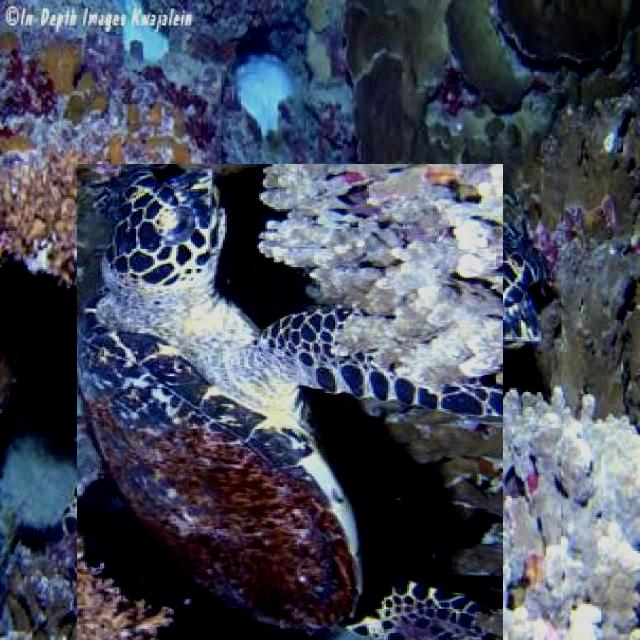Sea turtle: (56, 184, 524, 640)
